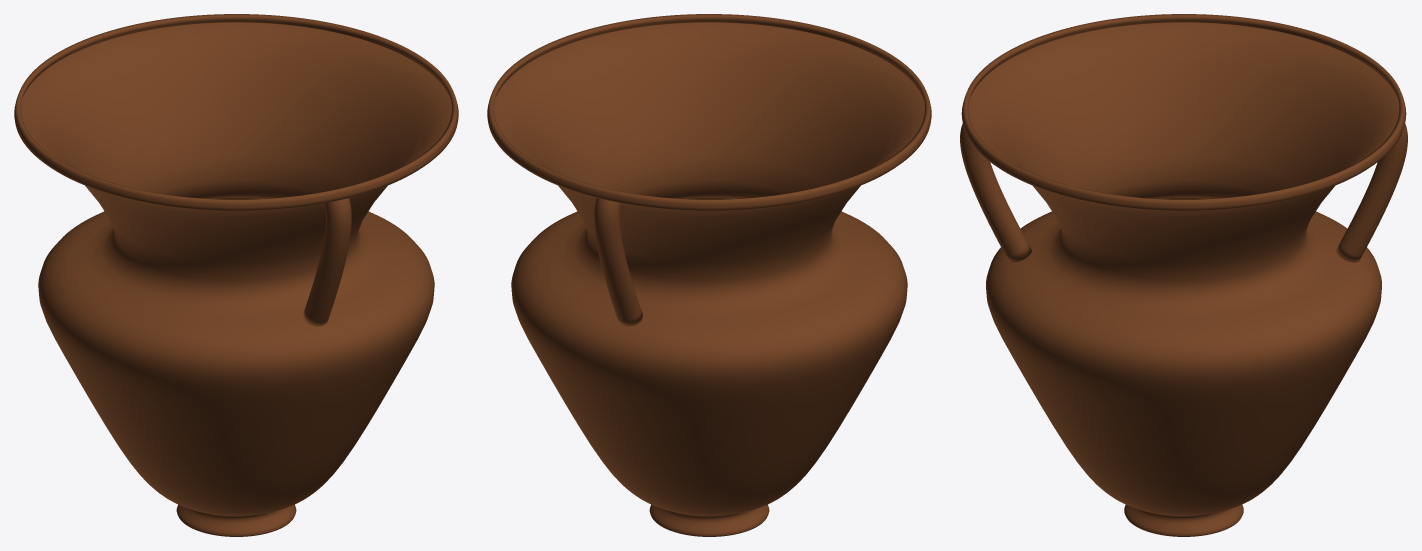
Rendered from BigVase2Handle.fbx.
3 renders of one model, left to right at view 1: azimuth 30°, elevation 25°; view 2: azimuth 150°, elevation 25°; view 3: azimuth 270°, elevation 25°, orthographic.
Visible parts, largest first — view 1: Sphere, BezierCurve; view 2: Sphere, BezierCurve; view 3: Sphere, BezierCurve.
Part boxes in pixels (x1,y1,x2,y2): Sphere: [14, 14, 458, 536]; BezierCurve: [123, 36, 351, 326]; Sphere: [487, 14, 931, 536]; BezierCurve: [594, 36, 822, 326]; Sphere: [961, 14, 1406, 536]; BezierCurve: [960, 113, 1407, 262].
Size of the model in its own units: 363 by 366 by 366.
